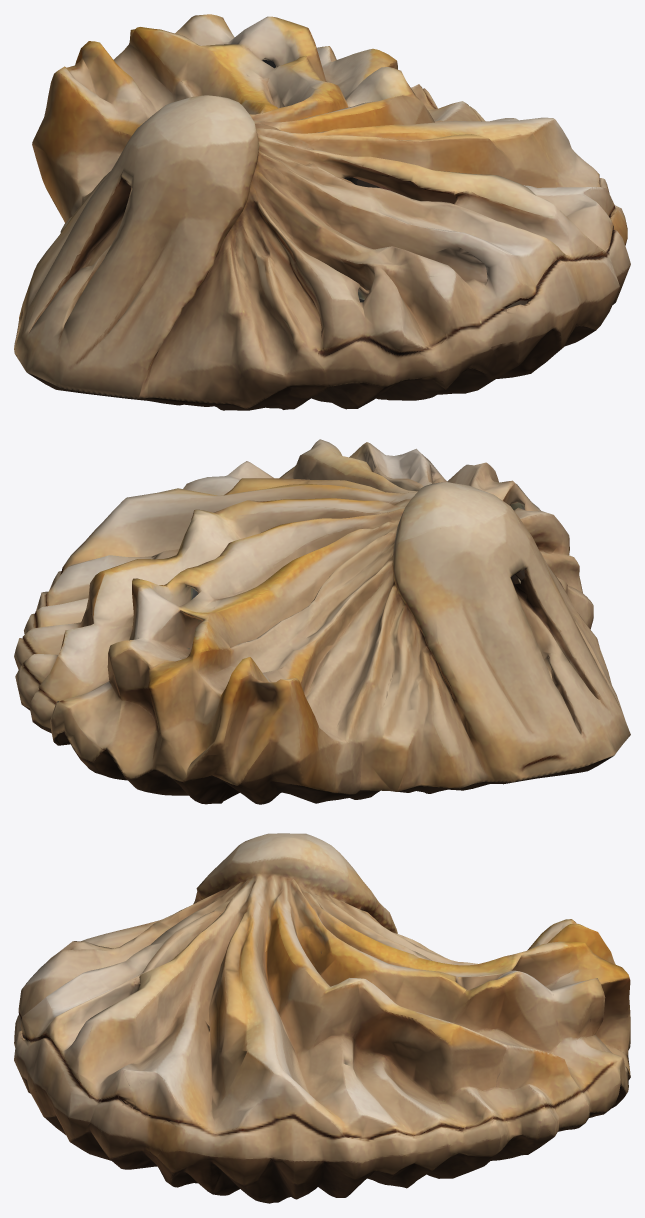
The picture shows the model from 3 angles, top to bottom: view 1: azimuth 30°, elevation 25°; view 2: azimuth 150°, elevation 25°; view 3: azimuth 270°, elevation 25°; orthographic projection. The views are drawn at different scales.
Parts seen in each view (by area): view 1: world; view 2: world; view 3: world.
Part boxes in pixels (box(x1,y1,x2,y2)): world: box(14, 14, 630, 410); world: box(14, 439, 630, 804); world: box(14, 833, 630, 1203).
Bounding box in the file's own units: 0.0548 × 0.0281 × 0.0582.
1 material, 1 textured.
